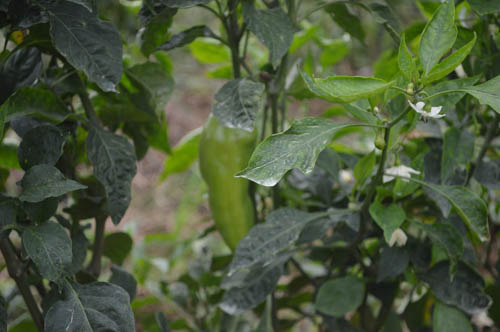ChiliPepper: (199, 113, 262, 254)
